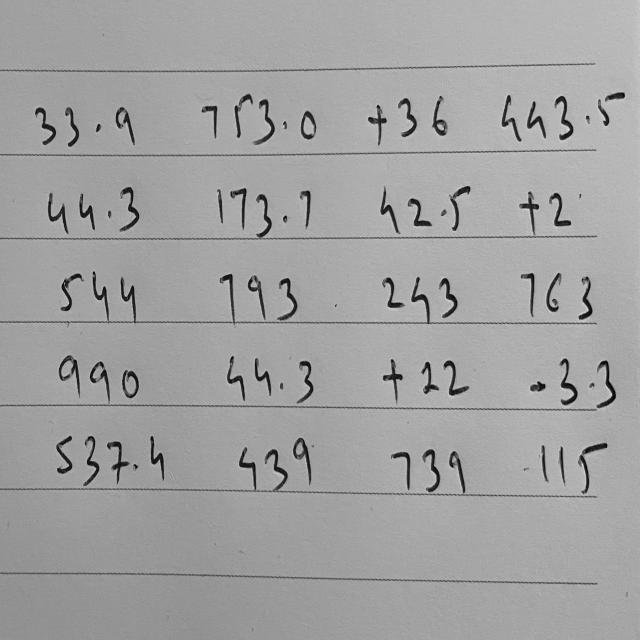Number: (500, 88, 627, 146), (200, 93, 317, 147), (56, 434, 165, 486), (216, 184, 311, 238), (379, 180, 470, 234), (225, 352, 314, 406), (33, 104, 137, 150), (530, 356, 617, 410), (218, 270, 298, 328), (46, 186, 140, 235), (368, 92, 450, 144), (381, 356, 469, 403), (59, 268, 137, 321), (58, 353, 140, 403), (238, 436, 312, 491), (538, 440, 608, 496), (381, 272, 458, 322), (520, 270, 593, 322), (390, 446, 466, 495), (518, 188, 572, 234)
